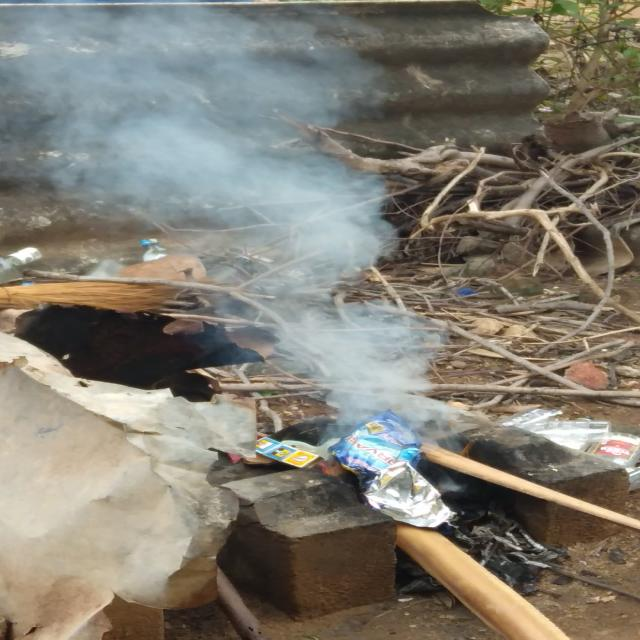Smoke: (0, 57, 425, 413)
